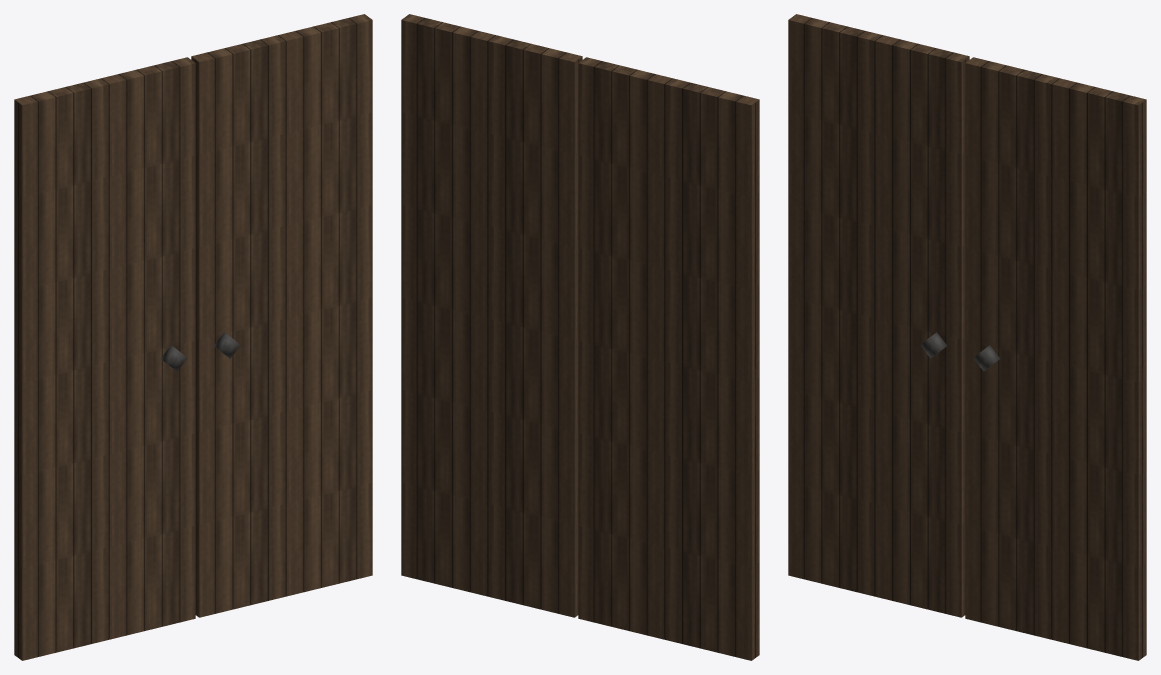
The model's file is Door_Palace_1_LOD2.gltf.
The picture shows the model from 3 angles, left to right: view 1: azimuth 30°, elevation 25°; view 2: azimuth 150°, elevation 25°; view 3: azimuth 330°, elevation 25°; orthographic projection.
Visible parts, largest first — view 1: Door_Palace_1_LOD2; view 2: Door_Palace_1_LOD2; view 3: Door_Palace_1_LOD2.
Part boxes in pixels (x1,y1,x2,y2): Door_Palace_1_LOD2: [14, 14, 372, 660]; Door_Palace_1_LOD2: [401, 14, 759, 660]; Door_Palace_1_LOD2: [788, 14, 1146, 660].
Bounding box in the file's own units: 3.96 × 6 × 0.28.
2 materials, 2 textured.
